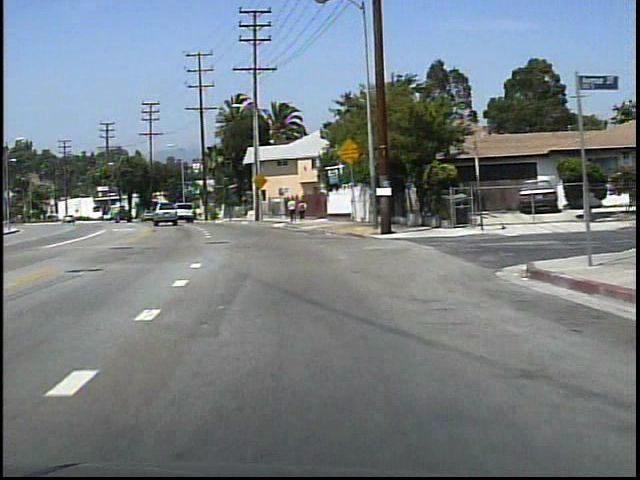person: (287, 196, 299, 223), (298, 198, 308, 222)
